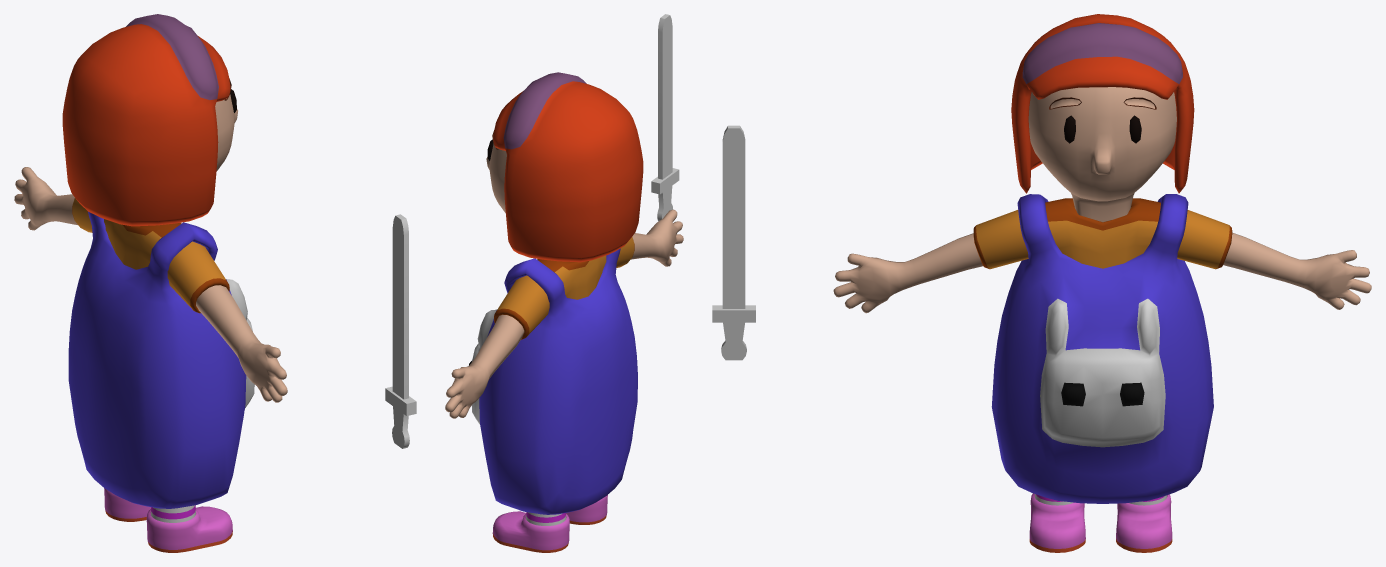
The model's file is Velet2.obj.
3 views of the same model, side by side, from view 1: azimuth 30°, elevation 25°; view 2: azimuth 150°, elevation 25°; view 3: azimuth 270°, elevation 25° (orthographic). The views are drawn at different scales.
Visible parts, largest first — view 1: Roundcube.001, Cube.001; view 2: Roundcube.001, Cube.001; view 3: Roundcube.001, Cube.001.
Boxes of the visible parts, x1=… form: Roundcube.001: x1=14, y1=14, x2=287, y2=552; Cube.001: x1=385, y1=214, x2=416, y2=448; Roundcube.001: x1=445, y1=72, x2=683, y2=552; Cube.001: x1=651, y1=14, x2=679, y2=221; Roundcube.001: x1=833, y1=14, x2=1371, y2=552; Cube.001: x1=712, y1=125, x2=755, y2=360.
Size of the model in its own units: 0.6392 by 1.84 by 2.16.
